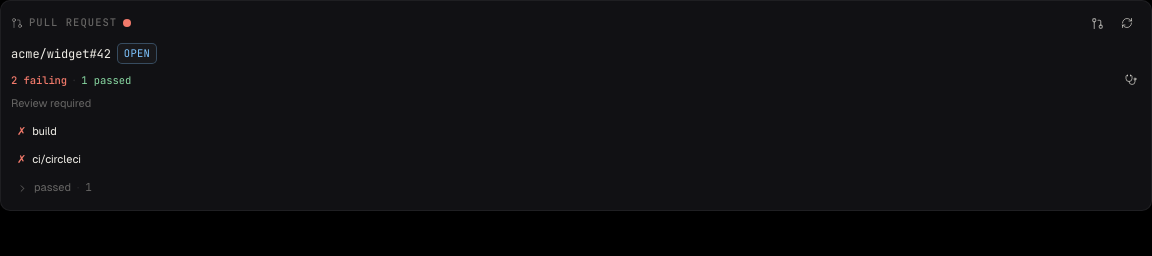
Test: PrCompanionSection pull request linking › shows the newly linked pull request without a manual refresh click
Click the button named "Link PR".
click(1097, 23)  # box [1087,13,1107,33]
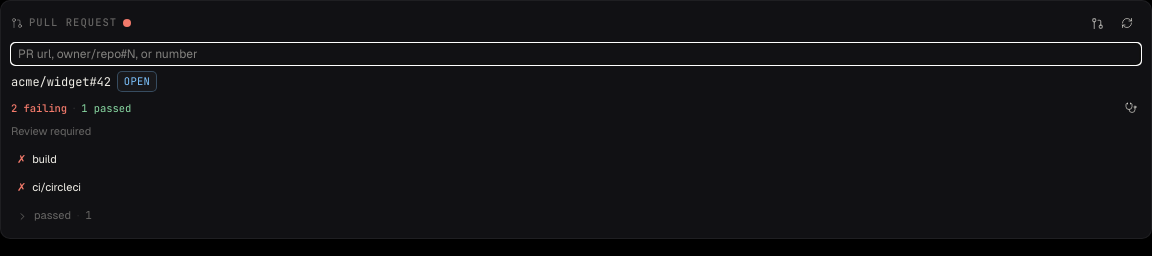
Type "acme/widget#42" into the field with placeholder "PR url, owner/repo#N, or number".
click(576, 54); type("acme/widget#42")  # box [11,43,1141,65]
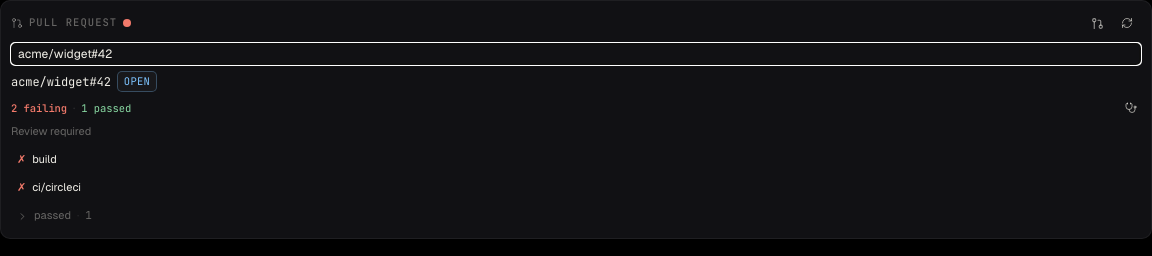
Submit the form from the field with placeholder "PR url, owner/repo#N, or number", box [11,43,1141,65]
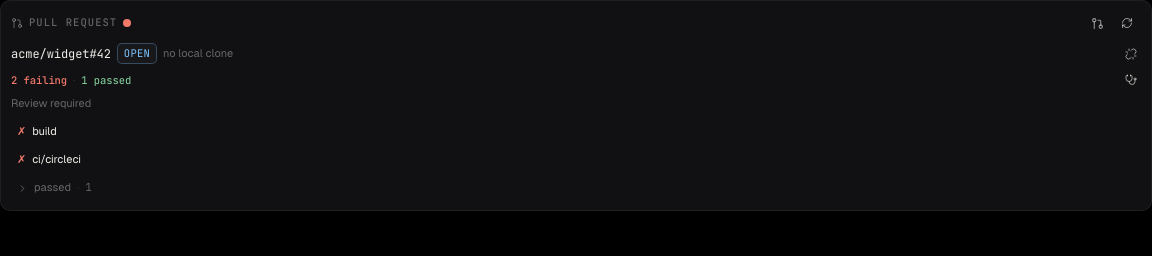
Expected: the button with aria-label "Open pull request acme/widget#42 on GitHub" is shown, [11,46,111,62]
Now the button named "Unlink pull request" is shown, box [1121,44,1141,64]
